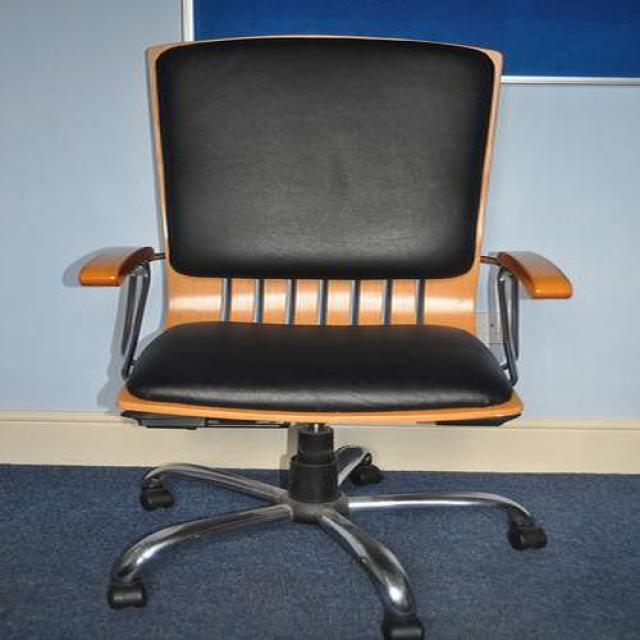swivelchair: (61, 36, 549, 640)
